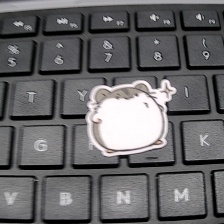mouse: (87, 76, 178, 156)
